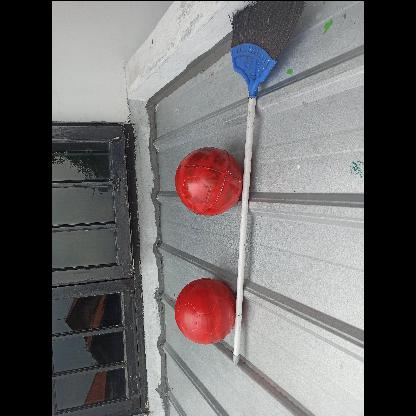red_ball: (172, 148, 242, 216), (172, 280, 236, 346)
